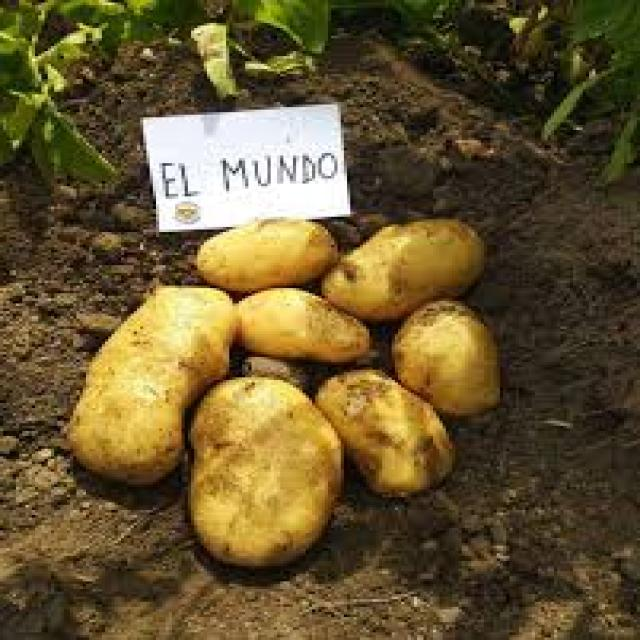Potato: (164, 348, 366, 574), (51, 281, 258, 477)
